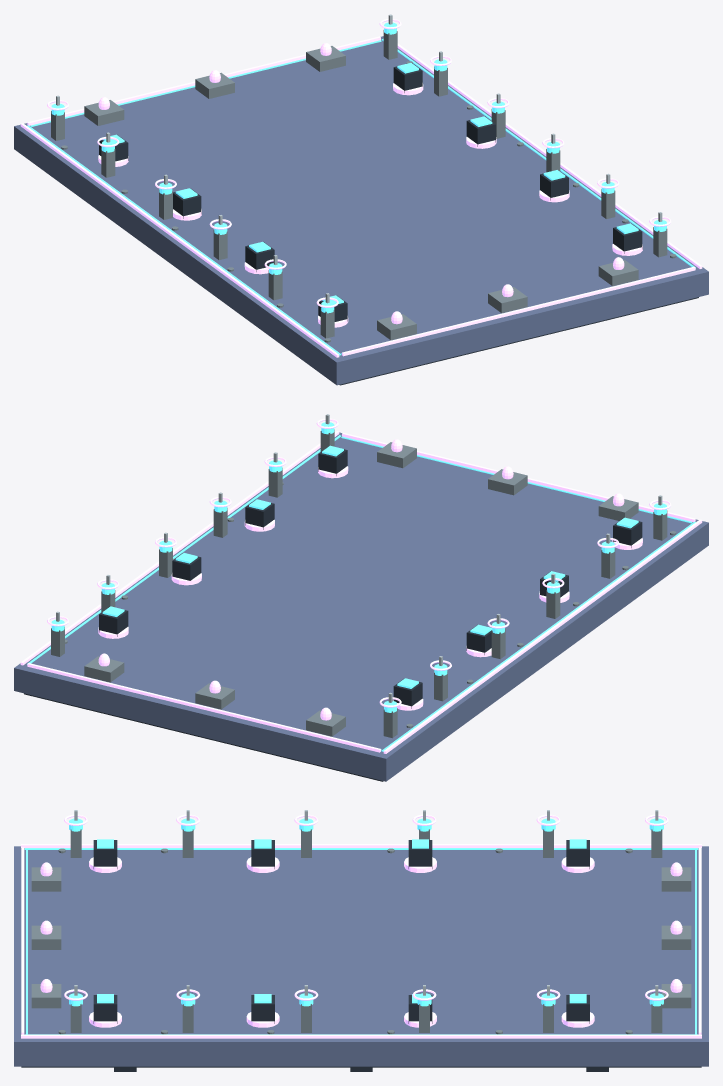
Rendered from skyrail_blitz.glb.
3 renders of one model, top to bottom at view 1: azimuth 30°, elevation 25°; view 2: azimuth 150°, elevation 25°; view 3: azimuth 270°, elevation 25°, orthographic. The views are drawn at different scales.
Visible parts, largest first — view 1: High-resolution arena body, Outer safety rail, Bumper and brake rail, Outer safety rail.001, Bumper and brake rail.001, Internal margin inset, Internal margin inset.001, Skybridge low station platform.001, Skybridge low station platform.005, Skybridge low station platform.004, Skybridge low station platform, Skybridge low station platform.002 (+2 smaller); view 2: High-resolution arena body, Outer safety rail, Bumper and brake rail.001, Outer safety rail.001, Bumper and brake rail, Internal margin inset, Internal margin inset.001, Skybridge low station platform.005, Skybridge low station platform.003, Skybridge low station platform.004, Skybridge low station platform.001, Skybridge low station platform.002 (+3 smaller); view 3: High-resolution arena body, Outer safety rail.001, Outer safety rail, Massive inset lower reinforced chassis, Internal margin inset, Bumper and brake rail, Bumper and brake rail.001, Skybridge low station platform.004, Skybridge low station platform, Skybridge low station platform.001, Skybridge low station platform.002, Skybridge low station platform.003 (+9 smaller).
Part boxes in pixels (x1,y1,x2,y2): High-resolution arena body: (14, 36, 708, 385); Outer safety rail: (20, 123, 339, 357); Bumper and brake rail: (342, 266, 695, 356); Outer safety rail.001: (397, 43, 702, 268); Bumper and brake rail.001: (27, 36, 380, 125); Internal margin inset: (27, 125, 341, 355); Internal margin inset.001: (381, 38, 695, 268); Skybridge low station platform.001: (84, 100, 124, 125); Skybridge low station platform.005: (306, 46, 345, 71); Skybridge low station platform.004: (598, 260, 638, 286); Skybridge low station platform: (377, 314, 416, 340); Skybridge low station platform.002: (488, 287, 527, 313); High-resolution arena body: (14, 432, 708, 781); Outer safety rail: (383, 519, 702, 753); Bumper and brake rail.001: (27, 663, 380, 752); Outer safety rail.001: (20, 431, 339, 665); Bumper and brake rail: (342, 432, 695, 521); Internal margin inset: (381, 521, 695, 751); Internal margin inset.001: (27, 435, 341, 664); Skybridge low station platform.005: (84, 656, 124, 682); Skybridge low station platform.003: (195, 683, 234, 709); Skybridge low station platform.004: (377, 442, 416, 468); Skybridge low station platform.001: (306, 710, 345, 736); Skybridge low station platform.002: (488, 469, 527, 495); High-resolution arena body: (14, 846, 708, 1066); Outer safety rail.001: (21, 1034, 701, 1038); Outer safety rail: (21, 844, 701, 847); Massive inset lower reinforced chassis: (21, 1066, 701, 1067); Internal margin inset: (24, 848, 698, 849); Bumper and brake rail: (21, 847, 24, 1034); Bumper and brake rail.001: (698, 847, 701, 1034); Skybridge low station platform.004: (31, 984, 61, 1008); Skybridge low station platform: (31, 867, 61, 891); Skybridge low station platform.001: (661, 867, 691, 891); Skybridge low station platform.002: (31, 925, 61, 949); Skybridge low station platform.003: (661, 925, 691, 949).
Bounding box in the file's own units: 23.5 × 4.87 × 35.3.
